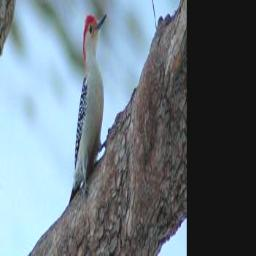Woodpecker: (68, 9, 108, 208)
